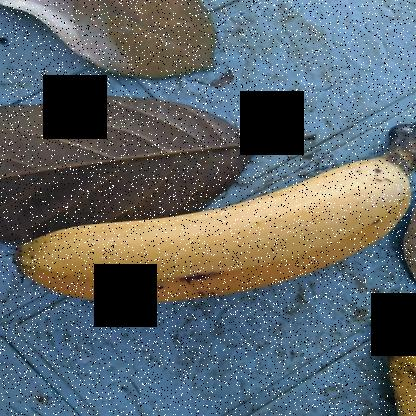freshripe: (10, 136, 415, 322)
